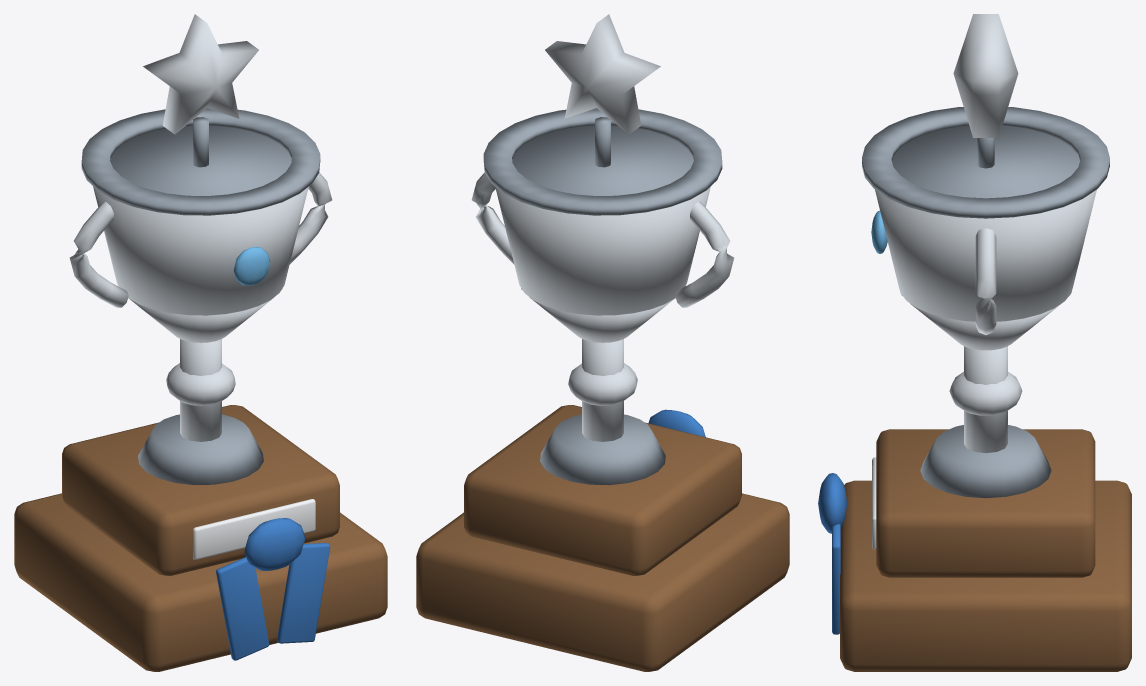
File: trophy-silver.glb
3 renders of one model, left to right at view 1: azimuth 30°, elevation 25°; view 2: azimuth 150°, elevation 25°; view 3: azimuth 270°, elevation 25°, orthographic. The views are drawn at different scales.
Parts seen in each view (by area): view 1: trophy; view 2: trophy; view 3: trophy.
Part boxes in pixels (left/top/right/bottom): trophy: left=14, top=14, right=387, bottom=671; trophy: left=416, top=14, right=789, bottom=671; trophy: left=818, top=14, right=1131, bottom=671.
Size of the model in its own units: 0.428 by 0.91 by 0.43.
